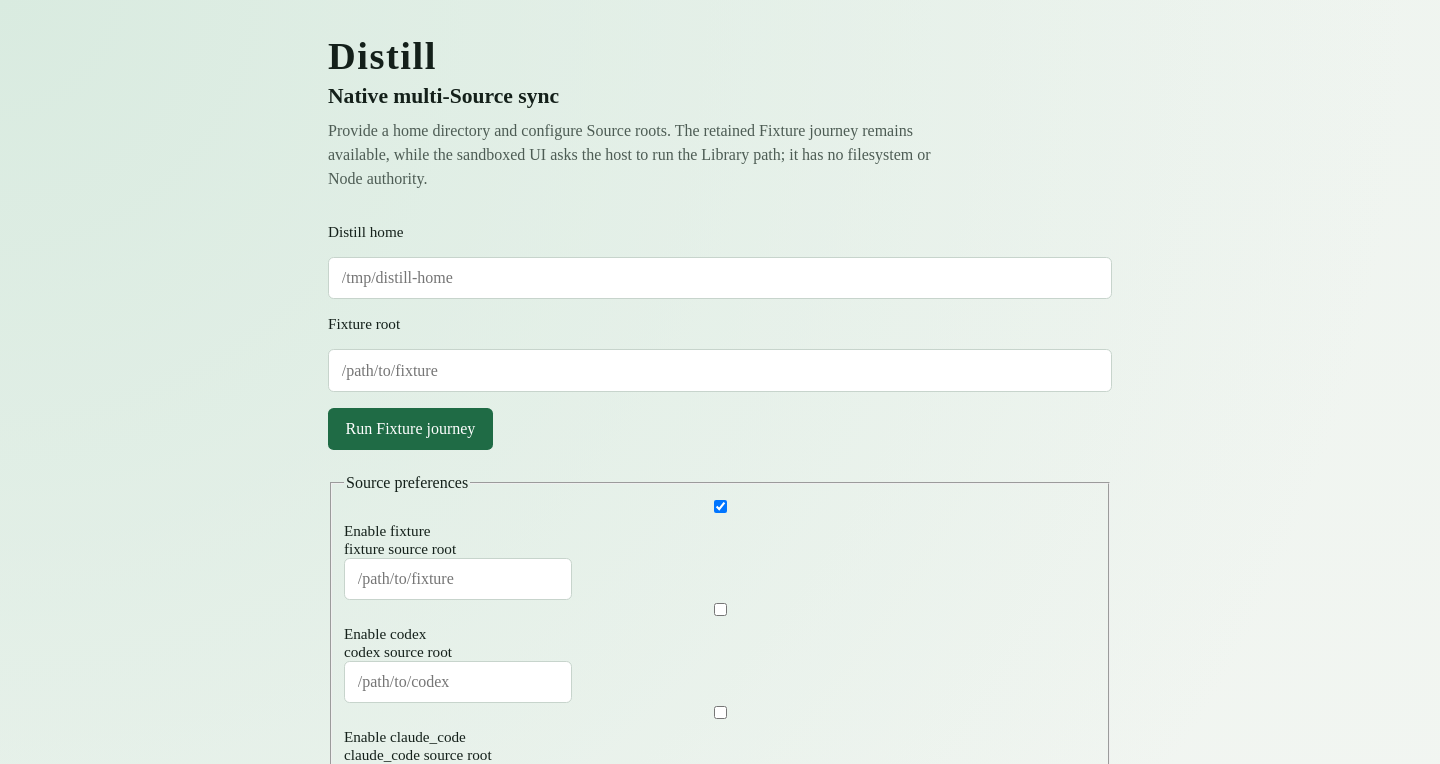
it: first-run Fixture UI › requires confirmation before repair and renders typed repair actions
Type "/tmp/home" into the field labelled "Distill home".
click(720, 278); type("/tmp/home")  # box [328,257,1112,299]
(page scrolled)
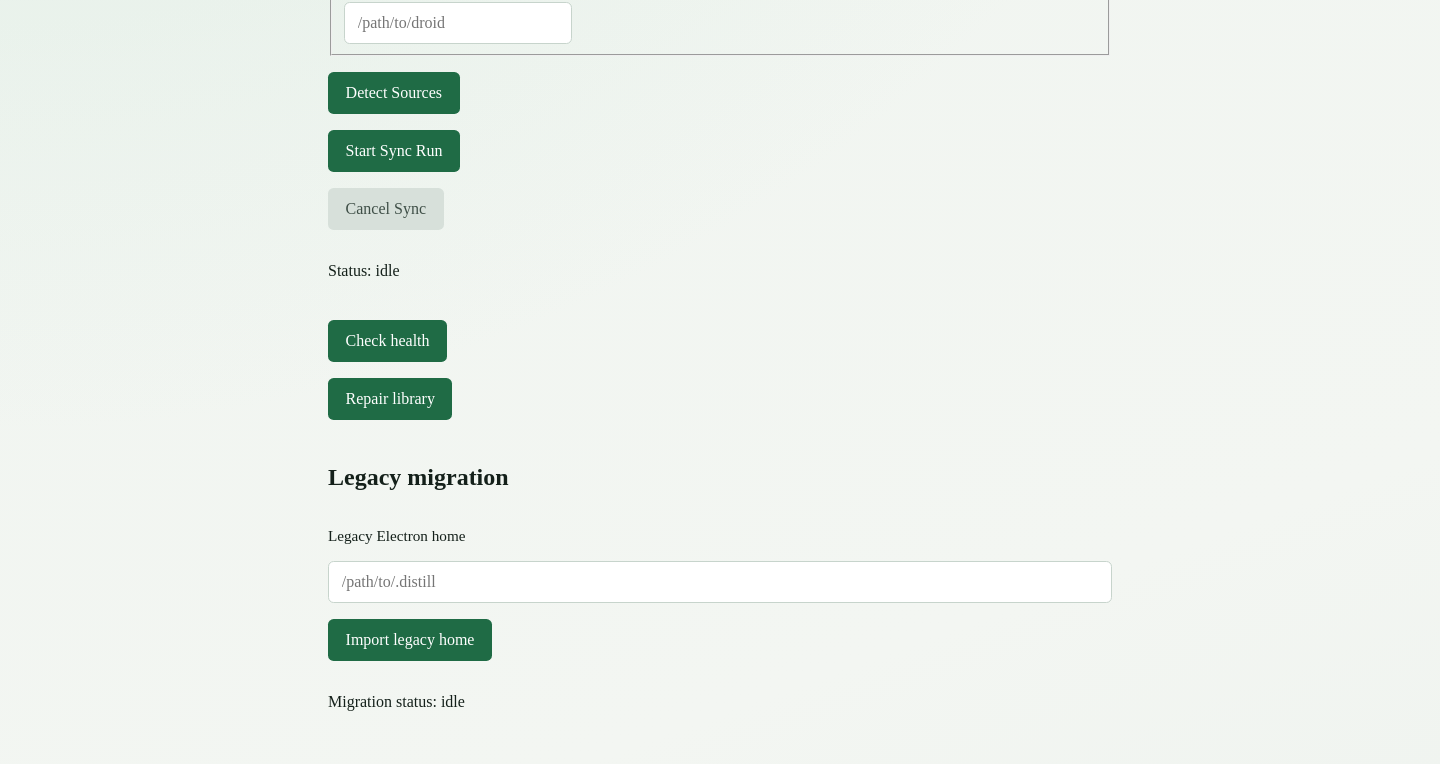
Click the button "Repair library".
click(390, 399)  # box [328,378,452,420]
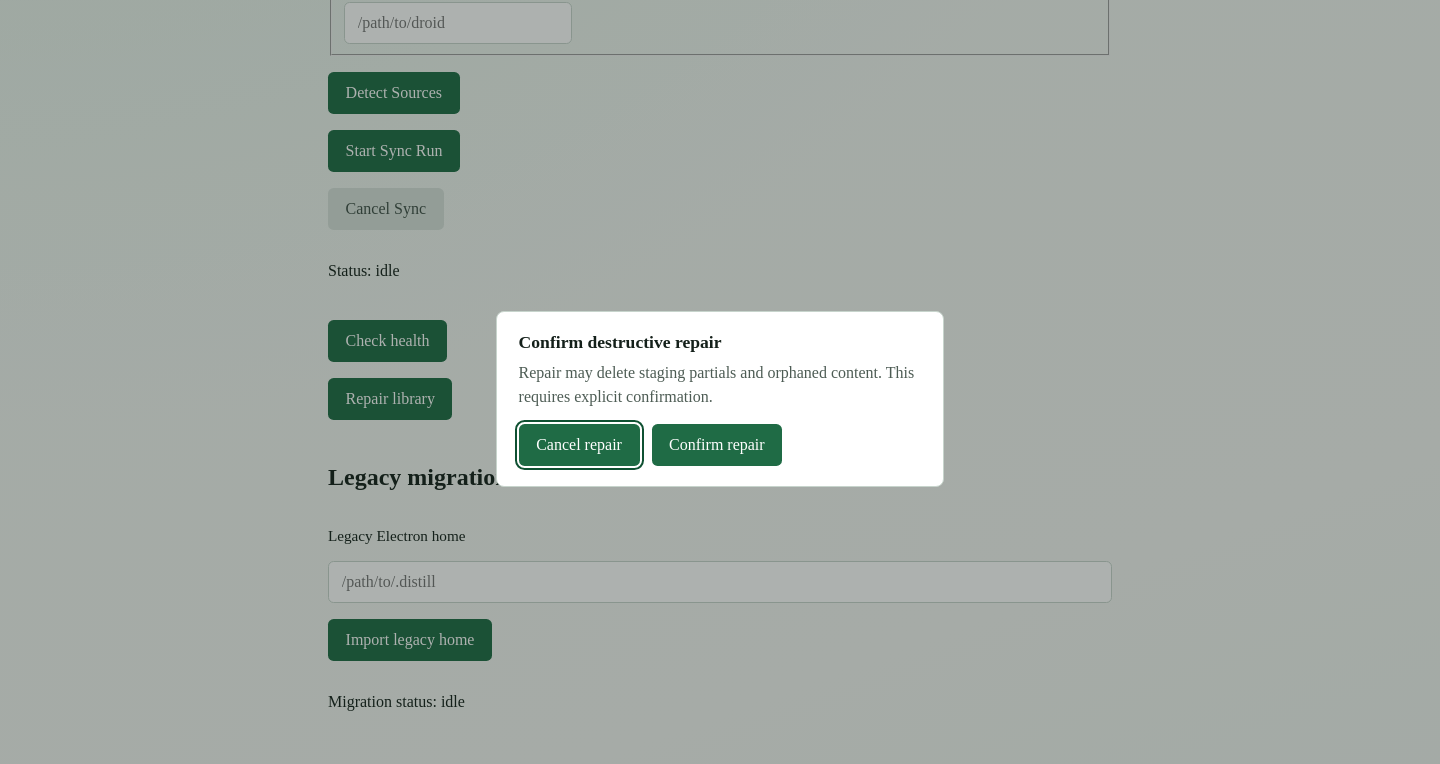
Check: the dialog "Confirm destructive repair" is shown, box [496,311,944,487]
Click the button "Confirm repair".
click(717, 445)  # box [652,424,782,466]
(page scrolled)
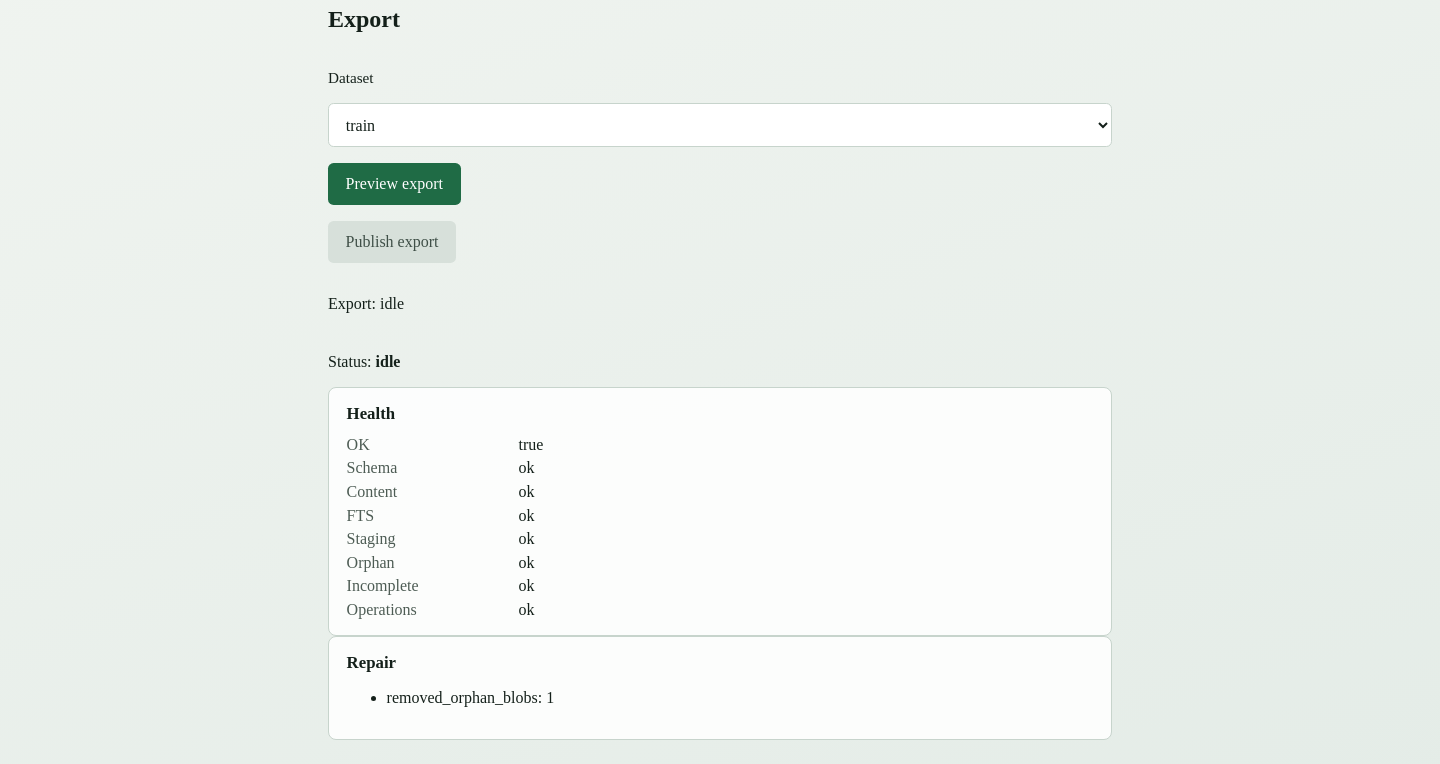
Check: the element with test id "repair-panel" shows "removed_orphan_blobs", box [387,689,538,706]
Check: the element with test id "repair-panel" shows "1", box [546,689,554,706]
